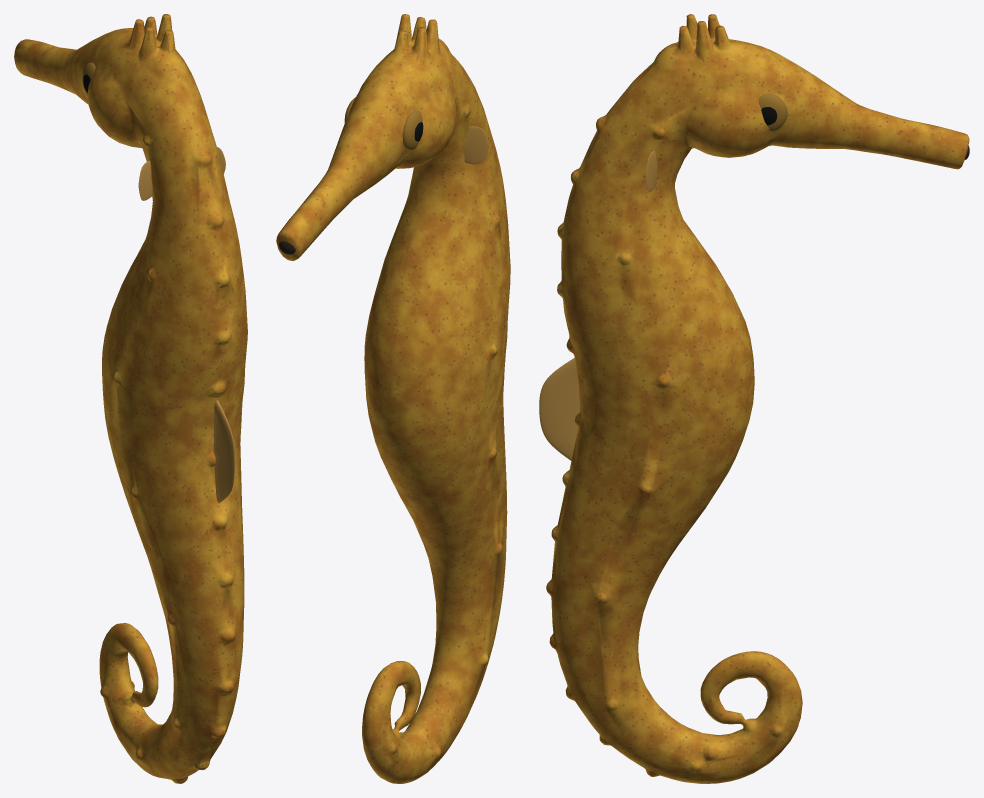
File: realistic-longsnout-seahorse.glb
3 renders of one model, left to right at view 1: azimuth 30°, elevation 25°; view 2: azimuth 150°, elevation 25°; view 3: azimuth 270°, elevation 25°, orthographic.
Visible parts, largest first — view 1: Continuous anatomical skin | seahorse, Rippled dorsal propulsion fin, Small fan pectoral fin behind the head.001; view 2: Continuous anatomical skin | seahorse, Small fan pectoral fin behind the head.001, Seahorse convex iris.001; view 3: Continuous anatomical skin | seahorse, Rippled dorsal propulsion fin.
Boxes of the visible parts, left/top/right/bottom form: Continuous anatomical skin | seahorse: left=14, top=14, right=247, bottom=783; Rippled dorsal propulsion fin: left=213, top=400, right=234, bottom=503; Small fan pectoral fin behind the head.001: left=138, top=160, right=152, bottom=200; Continuous anatomical skin | seahorse: left=276, top=14, right=510, bottom=783; Small fan pectoral fin behind the head.001: left=464, top=126, right=488, bottom=164; Seahorse convex iris.001: left=402, top=110, right=422, bottom=150; Continuous anatomical skin | seahorse: left=546, top=14, right=969, bottom=783; Rippled dorsal propulsion fin: left=539, top=358, right=580, bottom=460.
Bounding box in the file's own units: 0.1651 × 0.9996 × 0.5089.
5 materials, 5 textured.
